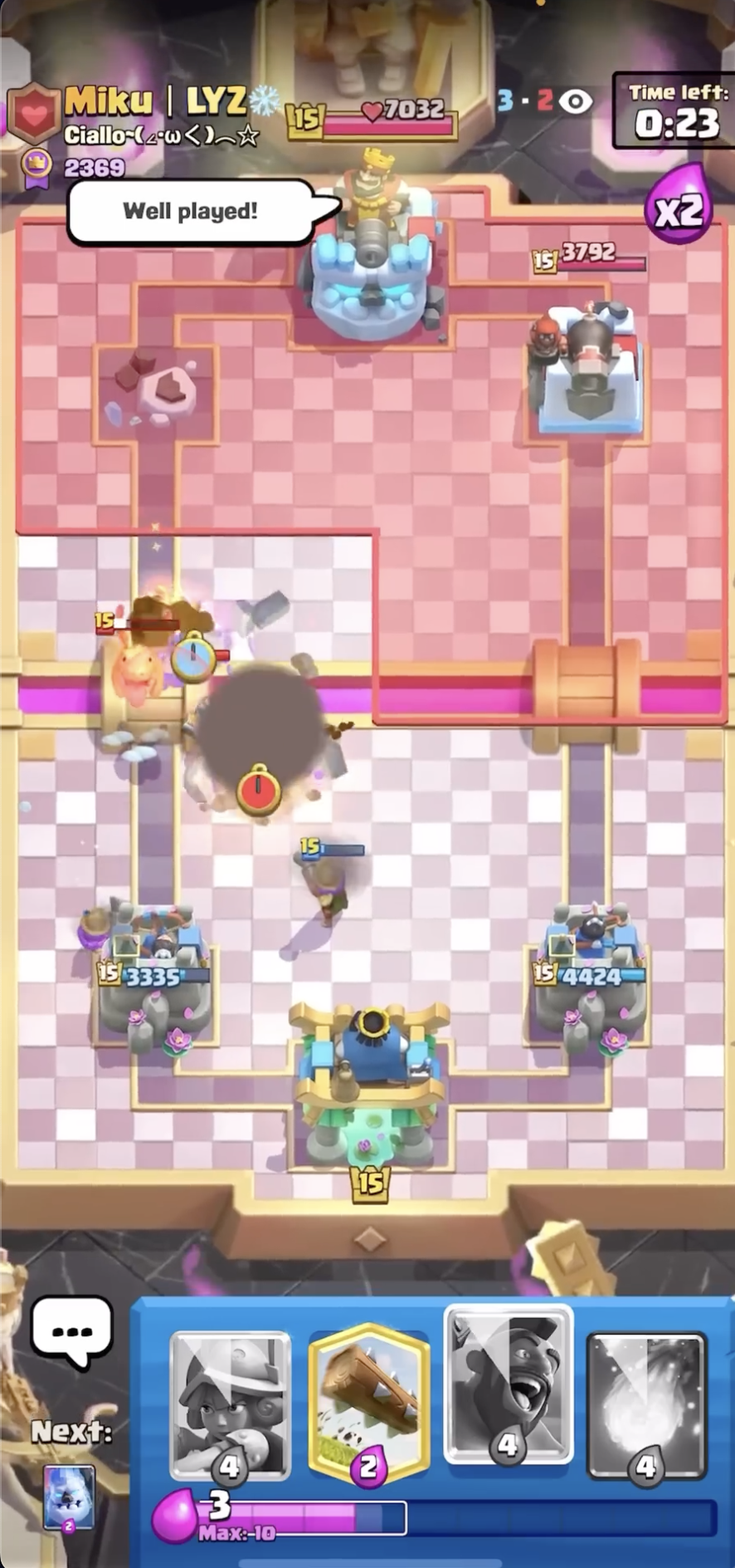musketeer: (286, 828, 375, 928)
